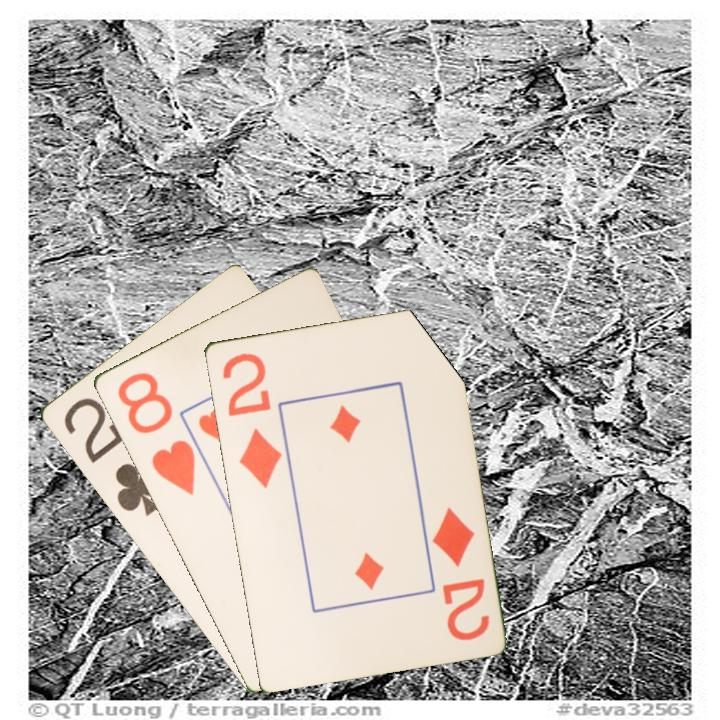2c: (59, 393, 165, 519)
2d: (218, 348, 284, 491), (427, 503, 492, 643)
8h: (113, 368, 198, 499)
